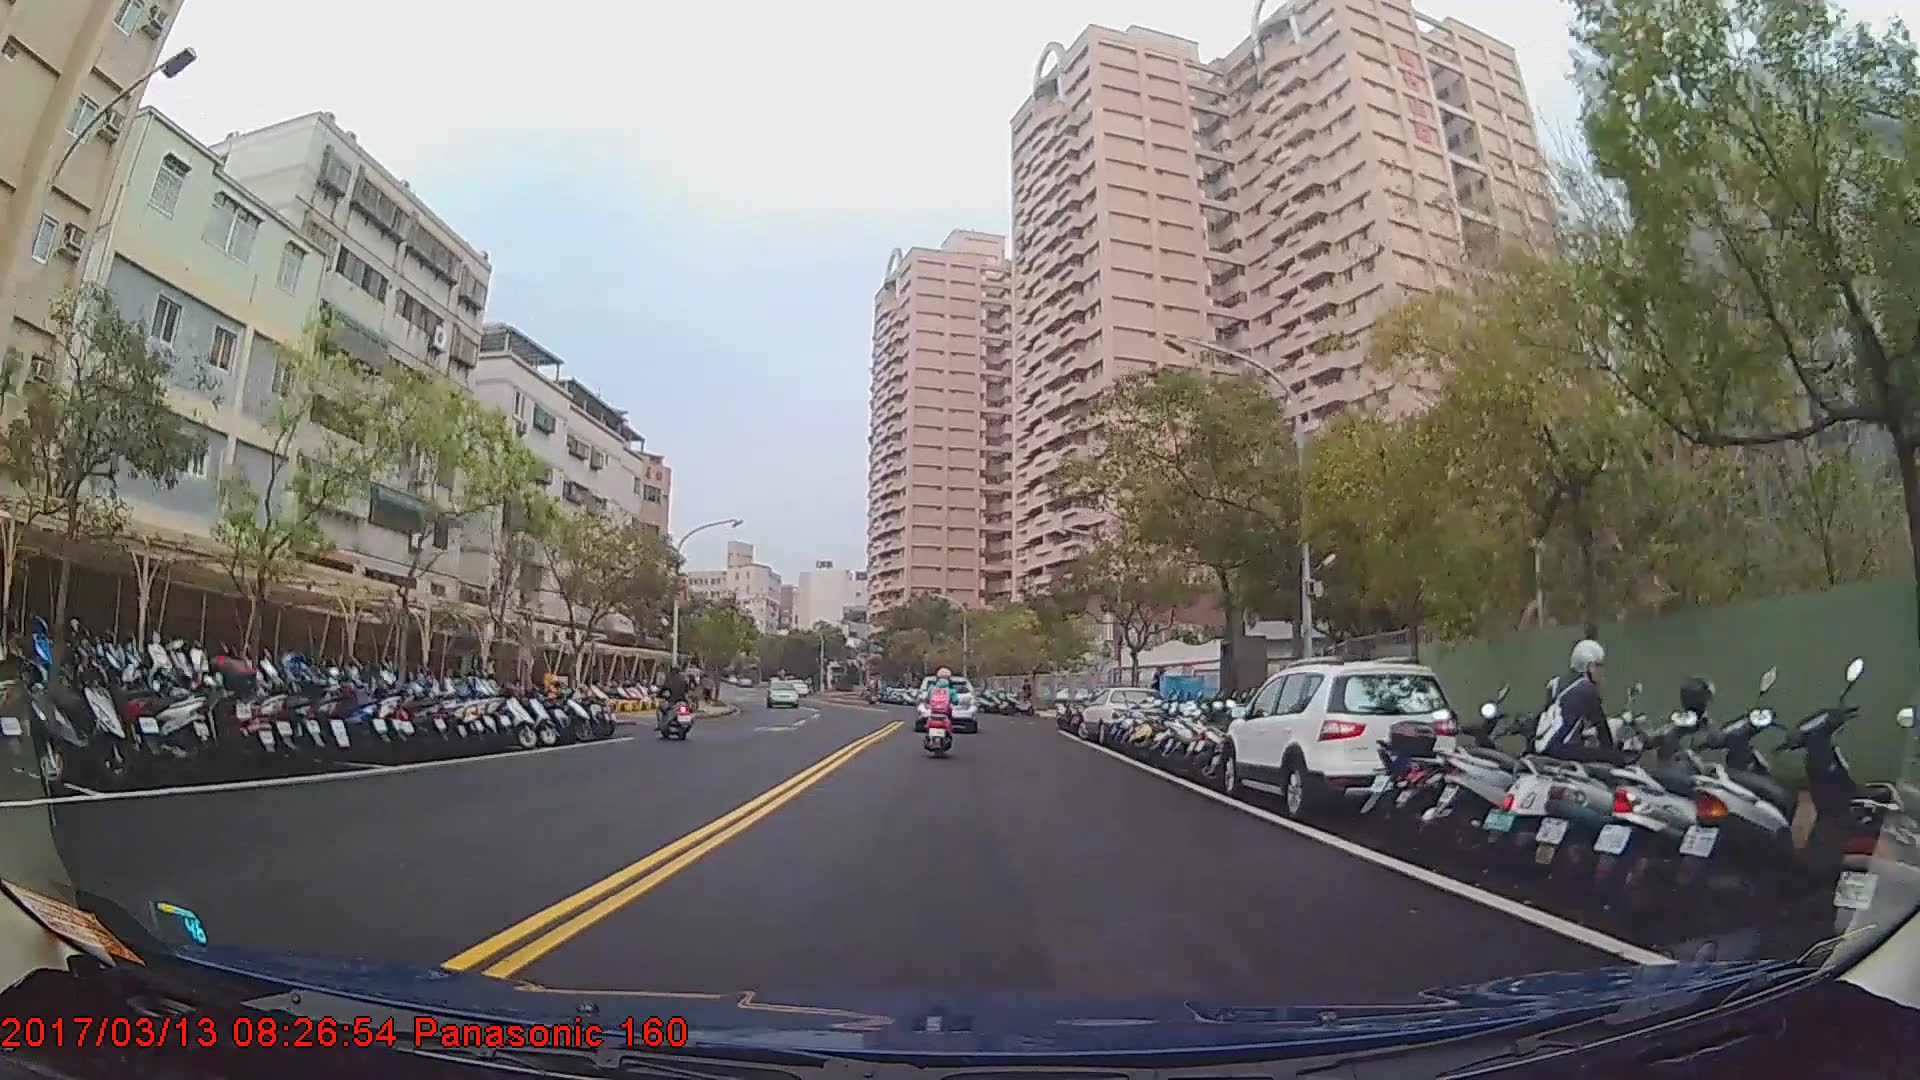rider: (920, 662, 961, 765), (656, 664, 693, 745)
vehicle: (1219, 662, 1461, 822), (1075, 683, 1165, 746), (912, 674, 975, 731), (763, 680, 800, 708)
